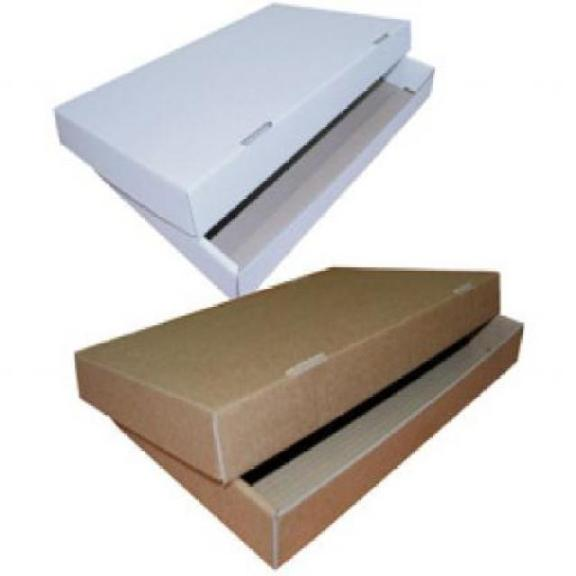Kertas: (77, 270, 522, 566), (55, 4, 433, 296)
